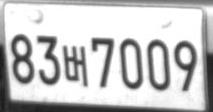0: (119, 38, 144, 89), (147, 39, 171, 91)
3: (36, 35, 61, 85)
7: (91, 37, 114, 87)
8: (10, 33, 35, 85)
9: (174, 40, 197, 91)
버: (62, 45, 88, 86)
